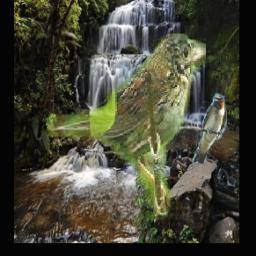Sparrow: (48, 35, 205, 221)
Swallow: (192, 93, 226, 164)
